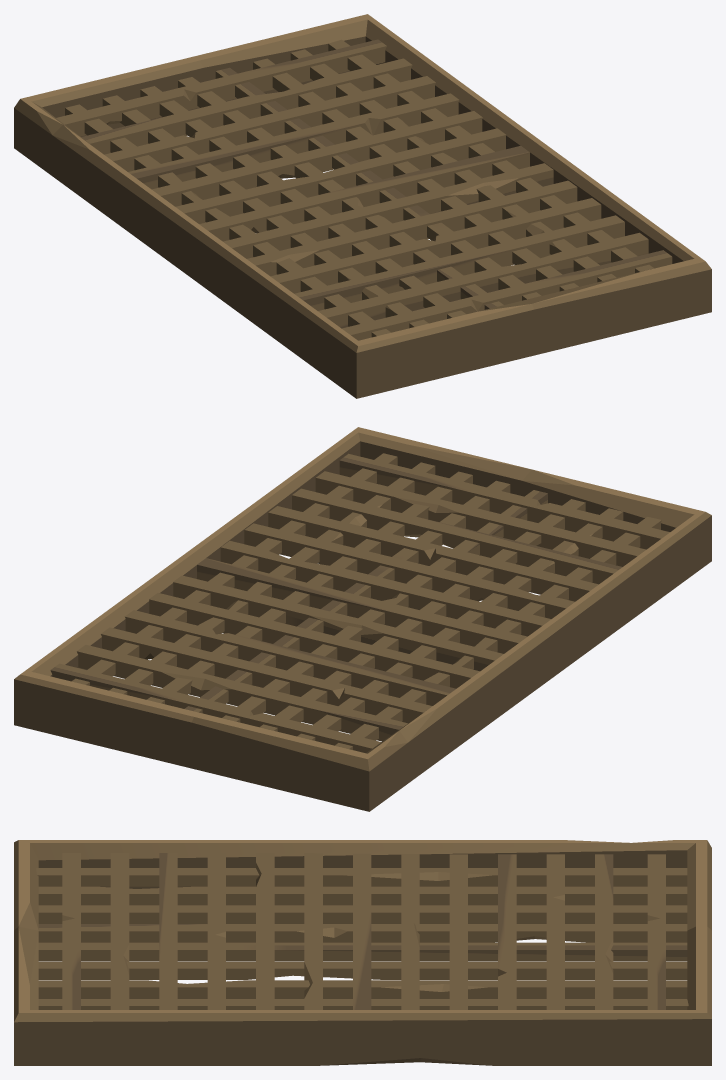
Rendered from SM_Veh_Ship_Grate_01.fbx.
The picture shows the model from 3 angles, top to bottom: view 1: azimuth 30°, elevation 25°; view 2: azimuth 150°, elevation 25°; view 3: azimuth 270°, elevation 25°; orthographic projection.
Parts seen in each view (by area): view 1: SM_Veh_Ship_Grate_01; view 2: SM_Veh_Ship_Grate_01; view 3: SM_Veh_Ship_Grate_01.
Boxes of the visible parts, box(x1,y1,x2,y2) form: SM_Veh_Ship_Grate_01: box(14, 14, 711, 398); SM_Veh_Ship_Grate_01: box(14, 427, 711, 811); SM_Veh_Ship_Grate_01: box(14, 840, 711, 1065).
Size of the model in its own units: 259 by 34.88 by 433.
